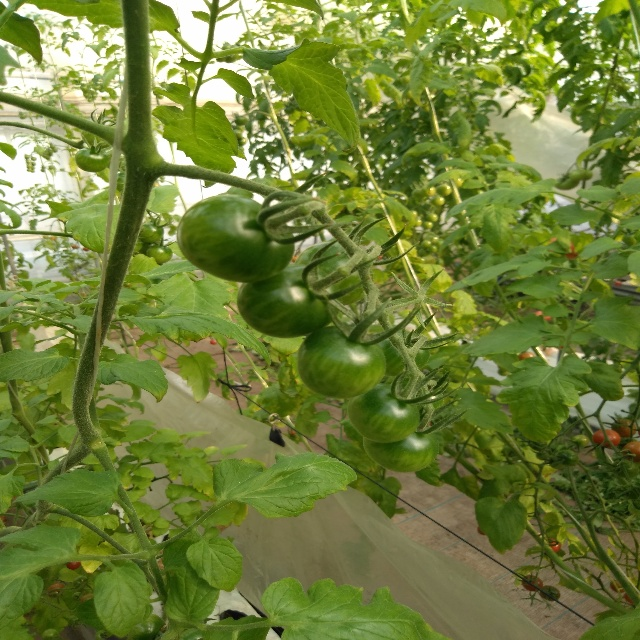l_fully_ripened: (591, 429, 621, 448)
l_green: (176, 194, 294, 283), (237, 264, 342, 338), (296, 326, 388, 399), (293, 241, 373, 306), (347, 383, 419, 444), (363, 421, 439, 473), (377, 332, 431, 377), (75, 148, 109, 173), (139, 222, 164, 243), (147, 245, 172, 263)
